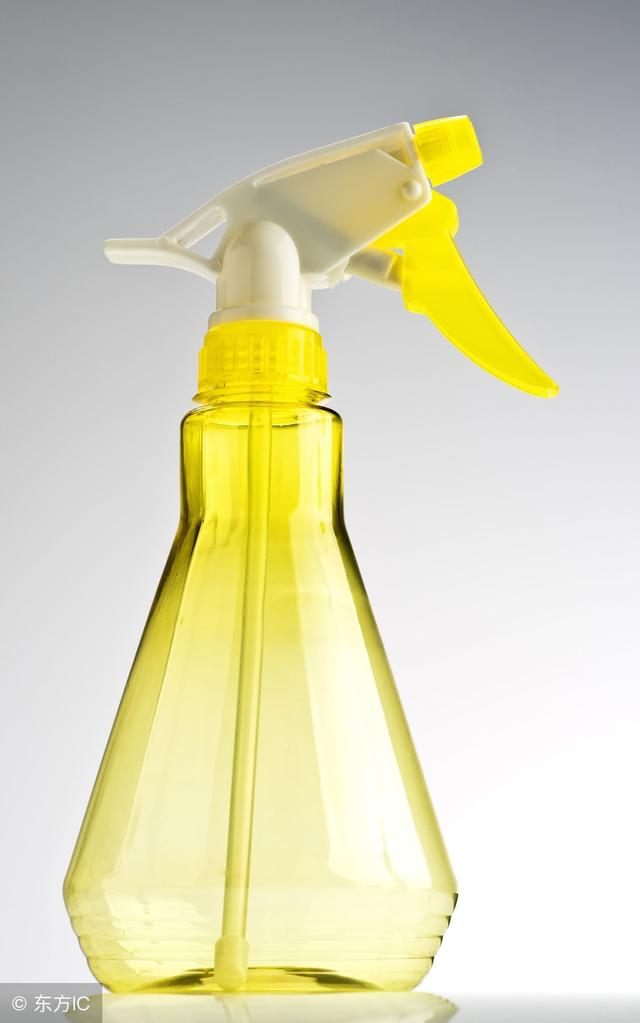cleaner: (52, 110, 566, 1004)
